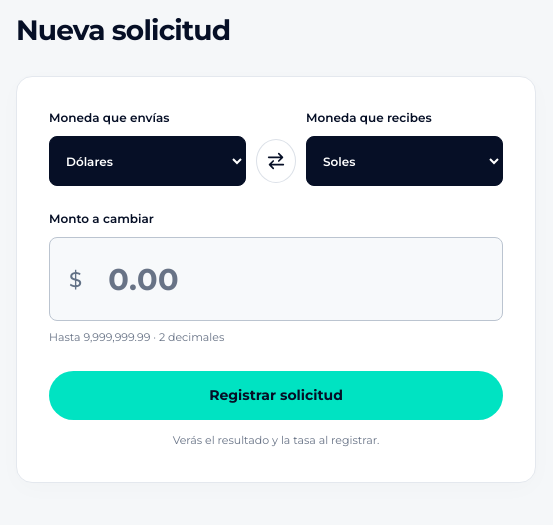
Scenario: formulario de cambio › muestra errores de campo sin enviar un monto inválido
In the field with id "exchange-amount": (276, 279) x1=49 y1=237 x2=503 y2=321, type "10.123"
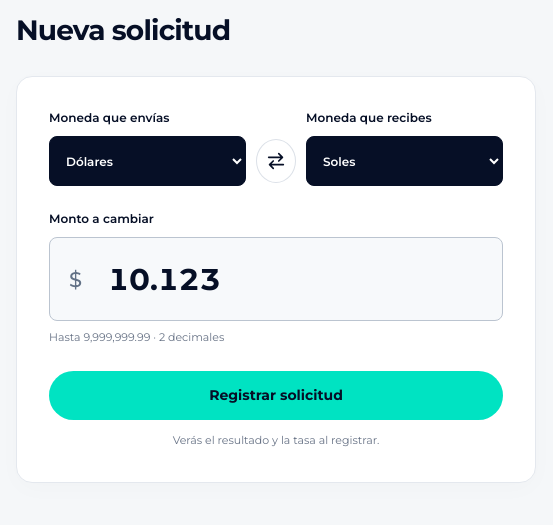
Submit the form, box x1=49 y1=109 x2=503 y2=450
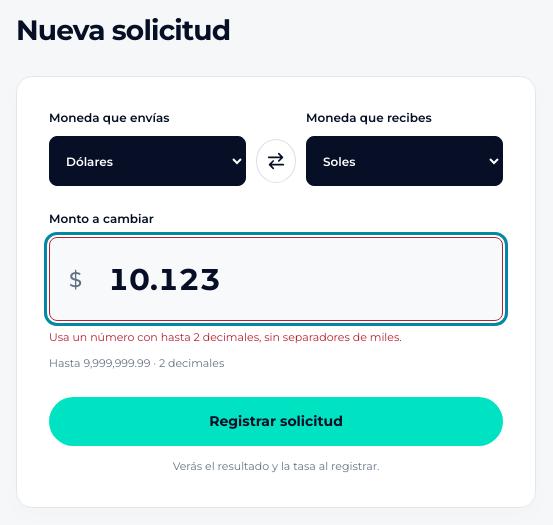
Now the text "hasta 2 decimales" is shown, box x1=49 y1=330 x2=402 y2=344
